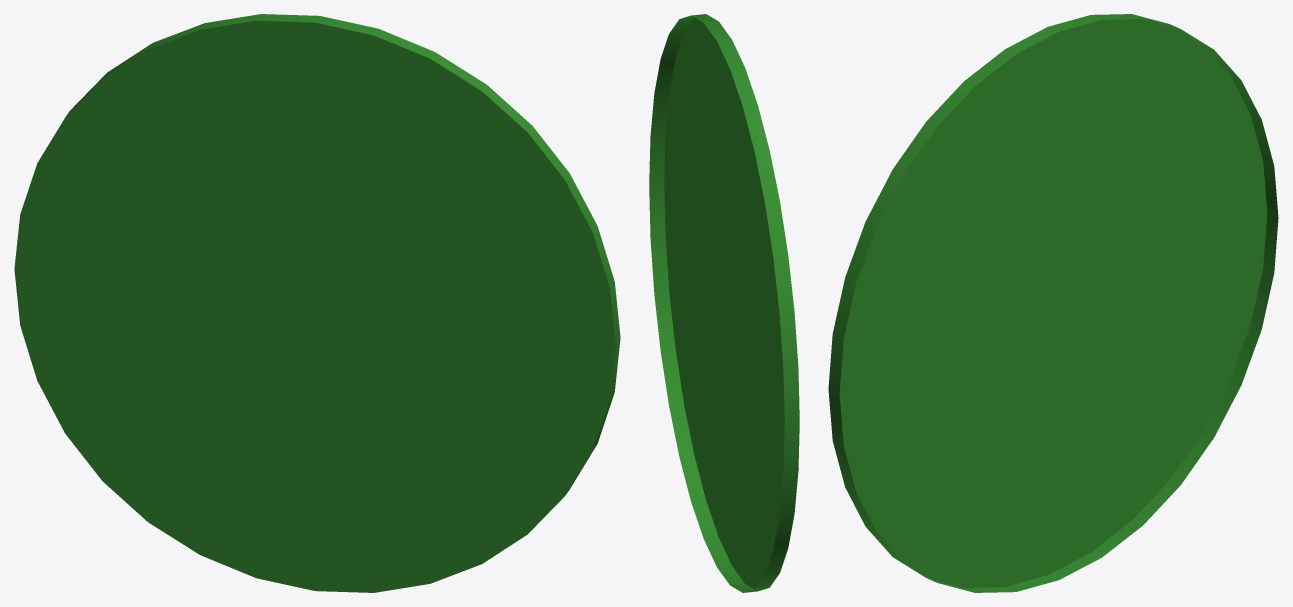
The model's file is oculo.fbx.
3 renders of one model, left to right at view 1: azimuth 30°, elevation 25°; view 2: azimuth 150°, elevation 25°; view 3: azimuth 270°, elevation 25°, orthographic. The views are drawn at different scales.
Parts seen in each view (by area): view 1: oculo; view 2: oculo; view 3: oculo.
Boxes of the visible parts, x1,y1,x2,y2 form: oculo: (14, 14, 620, 592); oculo: (649, 14, 799, 592); oculo: (828, 14, 1278, 592).
Size of the model in its own units: 212 by 223 by 300.
